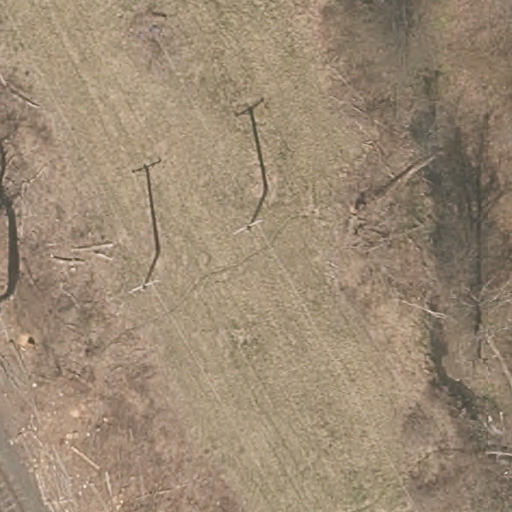DT: (233, 219, 264, 237), (127, 280, 162, 293)
